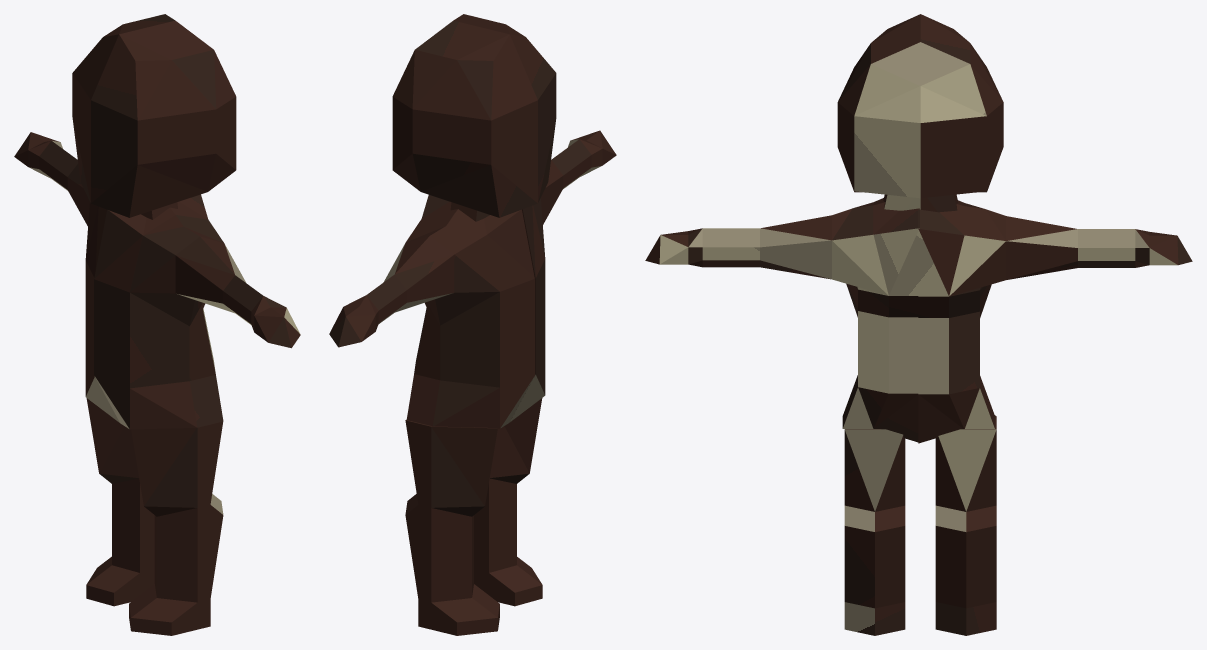
Rendered from cand_basicchar_yogoshimo-w.glb.
3 views of the same model, side by side, from view 1: azimuth 30°, elevation 25°; view 2: azimuth 150°, elevation 25°; view 3: azimuth 270°, elevation 25° (orthographic).
Parts seen in each view (by area): view 1: group847455024, group510330597, group1842606042, group1236196868, group1782017518, group747962390; view 2: group1782017518, group747962390, group1236196868, group1842606042, group847455024, group510330597; view 3: group1782017518, group847455024, group1842606042, group1236196868, group747962390, group510330597.
Part boxes in pixels (x1,y1,x2,y2): group847455024: (94, 194, 300, 429); group510330597: (91, 20, 236, 217); group1842606042: (129, 421, 223, 635); group1236196868: (86, 398, 154, 606); group1782017518: (14, 132, 119, 422); group747962390: (72, 14, 174, 202); group1782017518: (329, 195, 534, 428); group747962390: (392, 20, 537, 217); group1236196868: (405, 420, 499, 635); group1842606042: (474, 398, 542, 606); group847455024: (509, 130, 616, 422); group510330597: (453, 14, 556, 202); group1782017518: (918, 200, 1192, 443); group847455024: (645, 198, 919, 442); group1842606042: (844, 429, 905, 635); group1236196868: (935, 415, 996, 635); group747962390: (920, 14, 1003, 198); group510330597: (837, 14, 920, 198).
Size of the model in its own units: 0.0982 by 0.4273 by 0.3601.
1 material, 1 textured.
